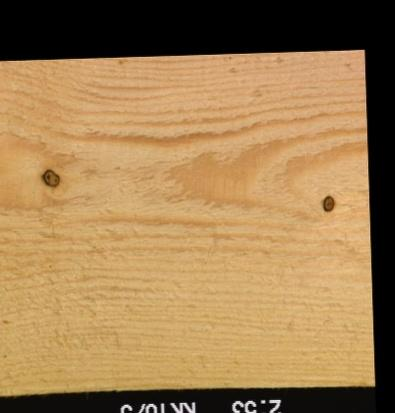dry_knot: (39, 166, 60, 187), (320, 192, 335, 212)
